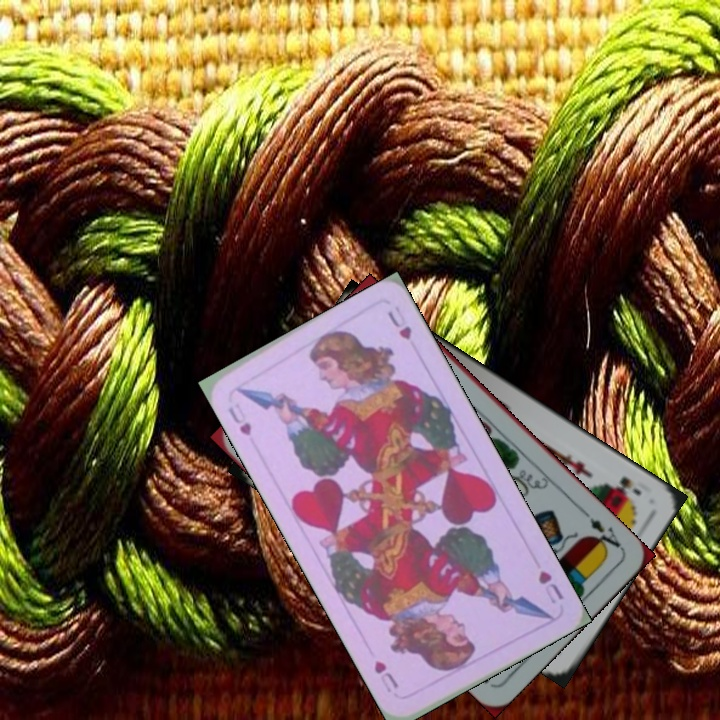EA: (584, 513, 625, 555)
HU: (534, 566, 567, 607), (223, 399, 254, 439)
SK: (612, 472, 644, 498)
